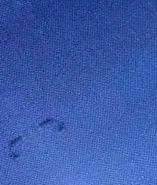knot: (37, 115, 71, 141), (5, 134, 25, 161)
